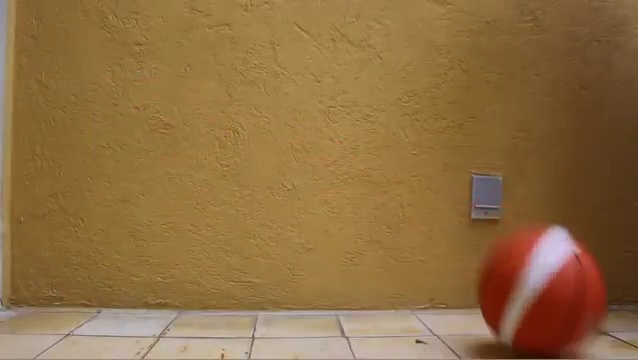ball: (477, 223, 607, 360)
